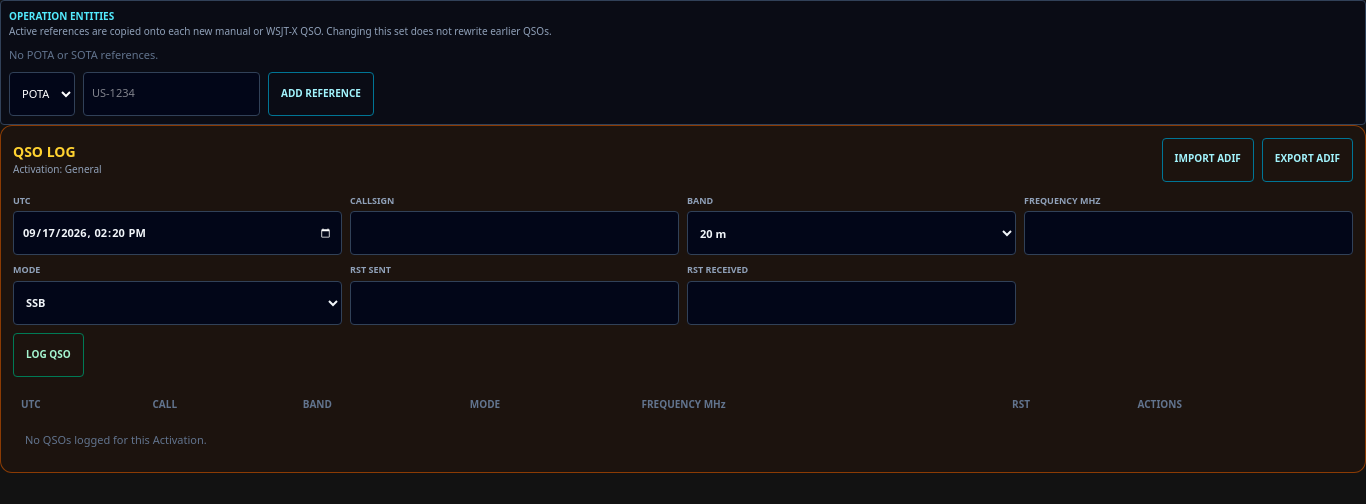
QsoLoggerPanel › logs a contact and clears the callsign for the next contact
The image size is (1366, 504).
Type " w1aw " into the field labelled "CALLSIGN".
click(514, 233); type(" w1aw ")  # box [350,211,679,255]
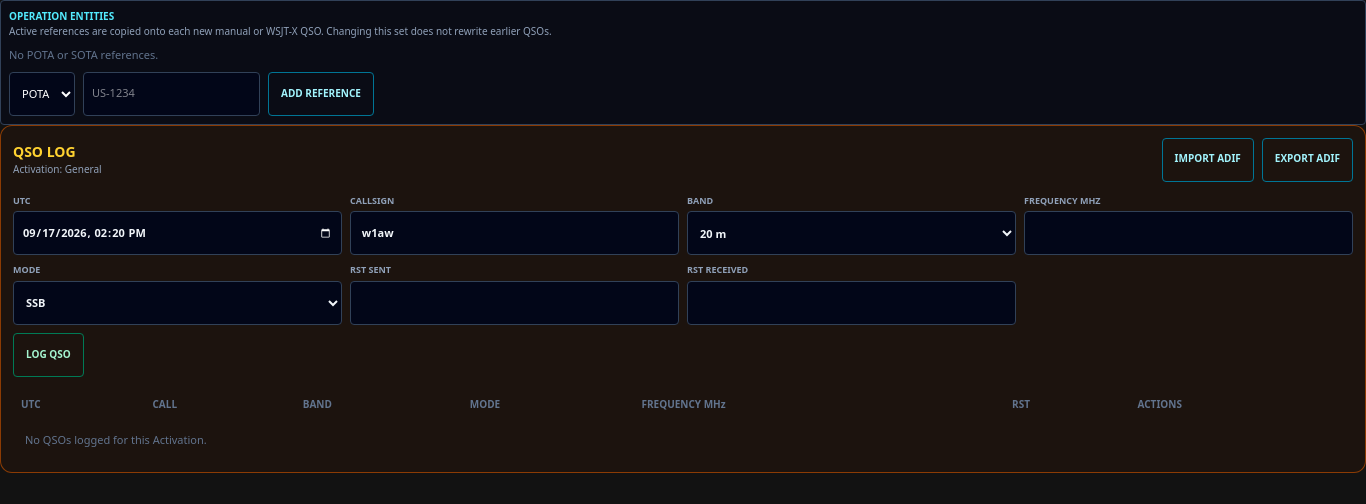
Select "FT8" in the dropdown labelled "MODE" at (178, 302), box [13,280,342,324]
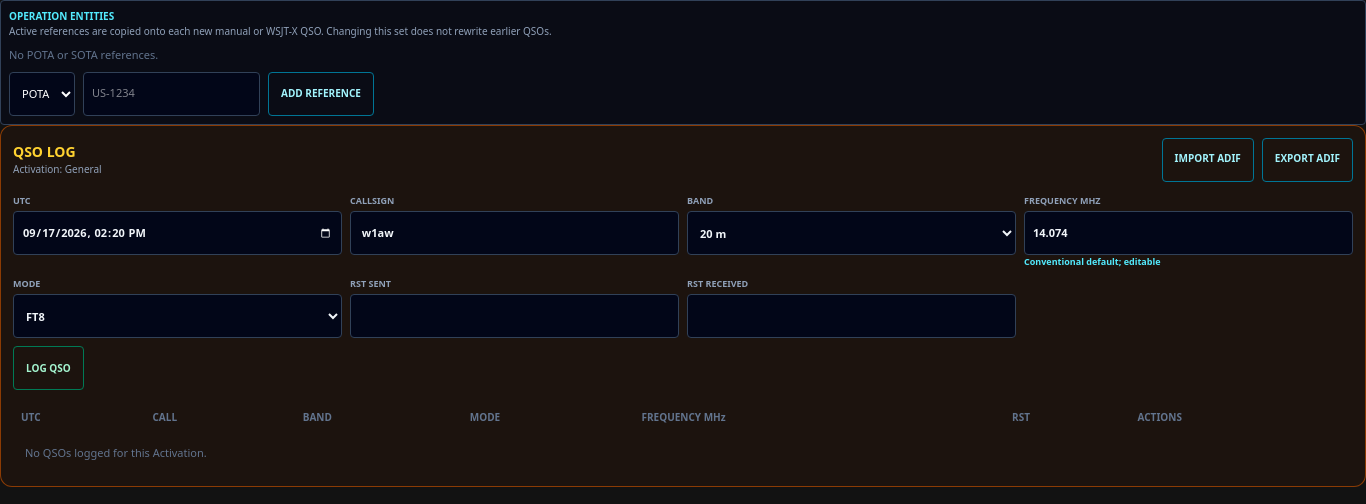
Click the button "LOG QSO".
click(48, 368)  # box [13,346,84,390]
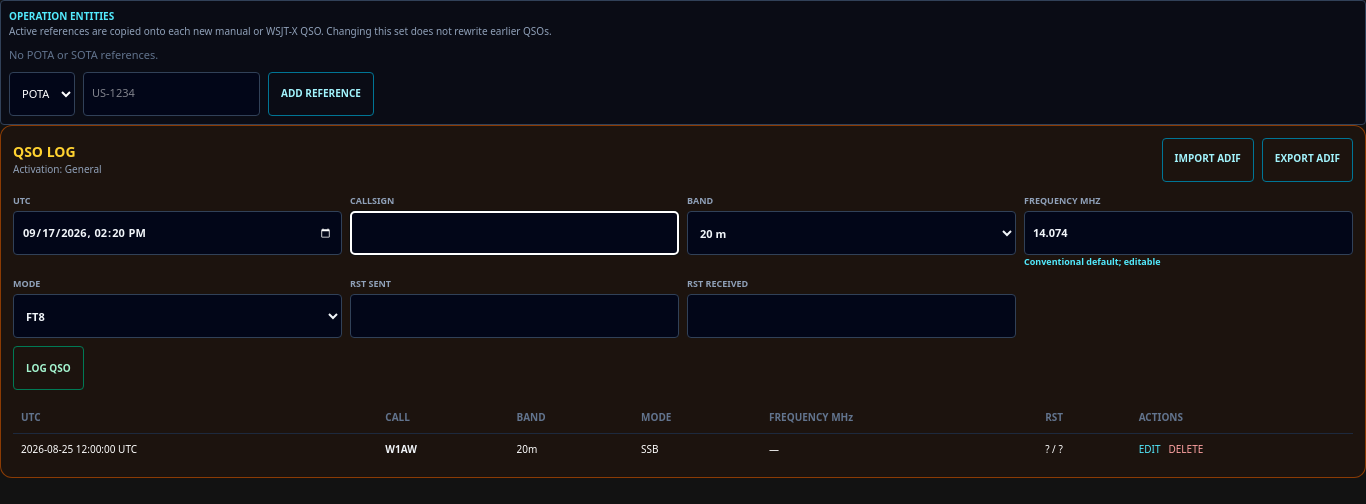
Now the text "W1AW" is shown, box [377,434,508,465]
Now the field labelled "CALLSIGN" is empty, box [350,211,679,255]
